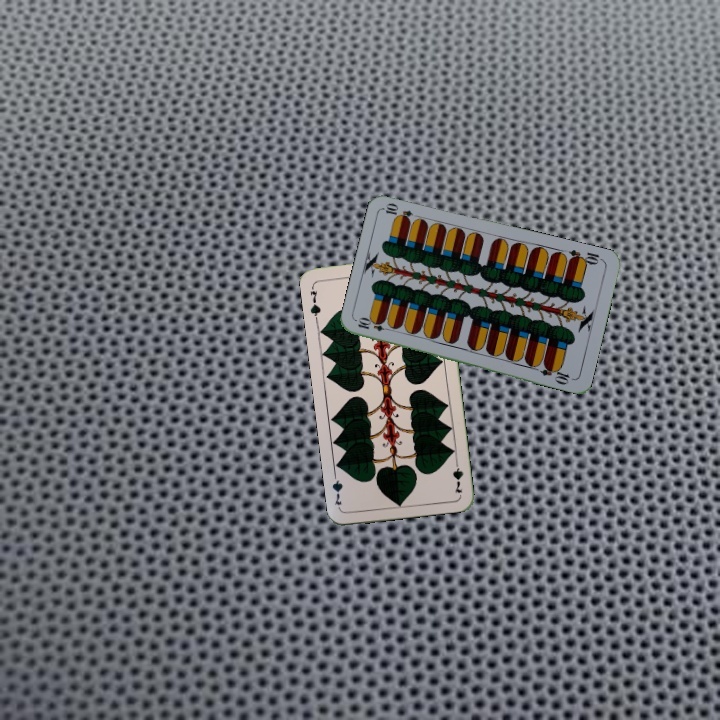E10: (565, 246, 605, 267), (354, 315, 394, 334)
G7: (448, 455, 466, 496), (306, 282, 323, 323)
